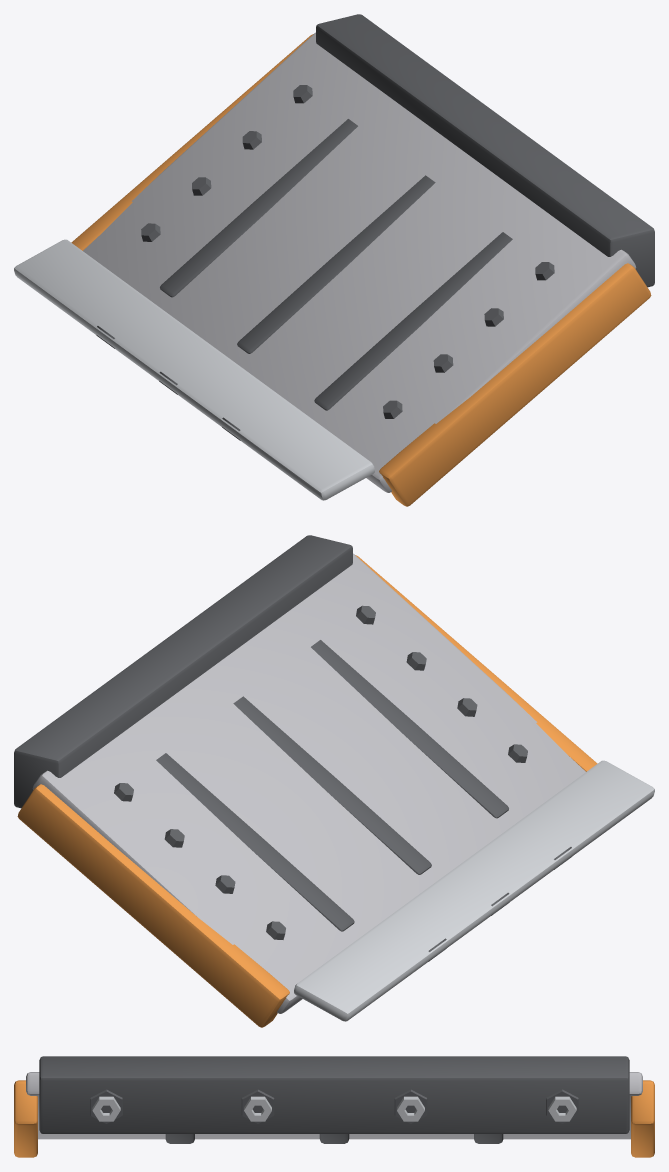
The model's file is rear_wedge.glb.
The picture shows the model from 3 angles, top to bottom: view 1: azimuth 30°, elevation 25°; view 2: azimuth 150°, elevation 25°; view 3: azimuth 270°, elevation 25°; orthographic projection.
Visible parts, largest first — view 1: body; view 2: body; view 3: body.
Part boxes in pixels (<box>): body: <box>14,14,654,506</box>; body: <box>14,535,654,1027</box>; body: <box>14,1056,654,1157</box>.
Bounding box in the file's own units: 0.3013 × 0.1698 × 0.478.
